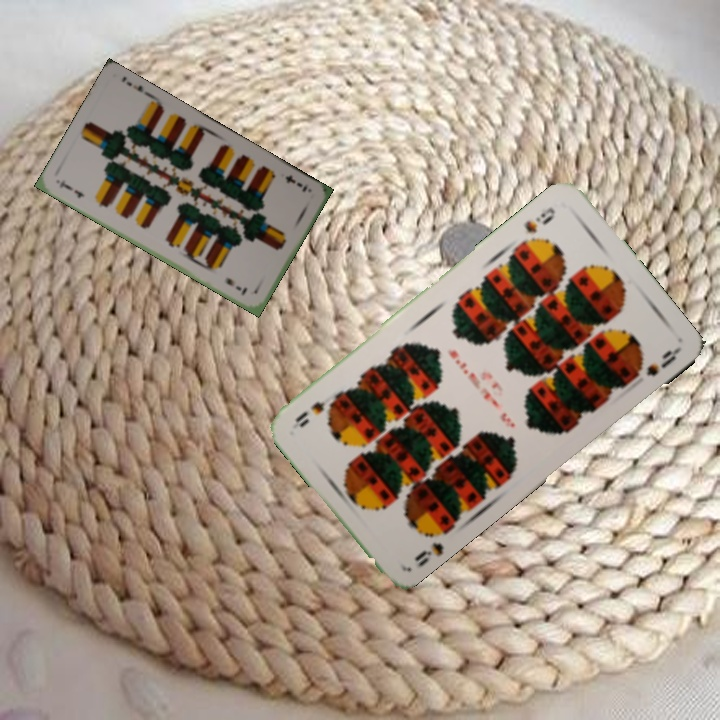E7: (55, 176, 87, 201), (281, 171, 310, 195)
S9: (520, 203, 558, 236), (410, 538, 447, 570)
